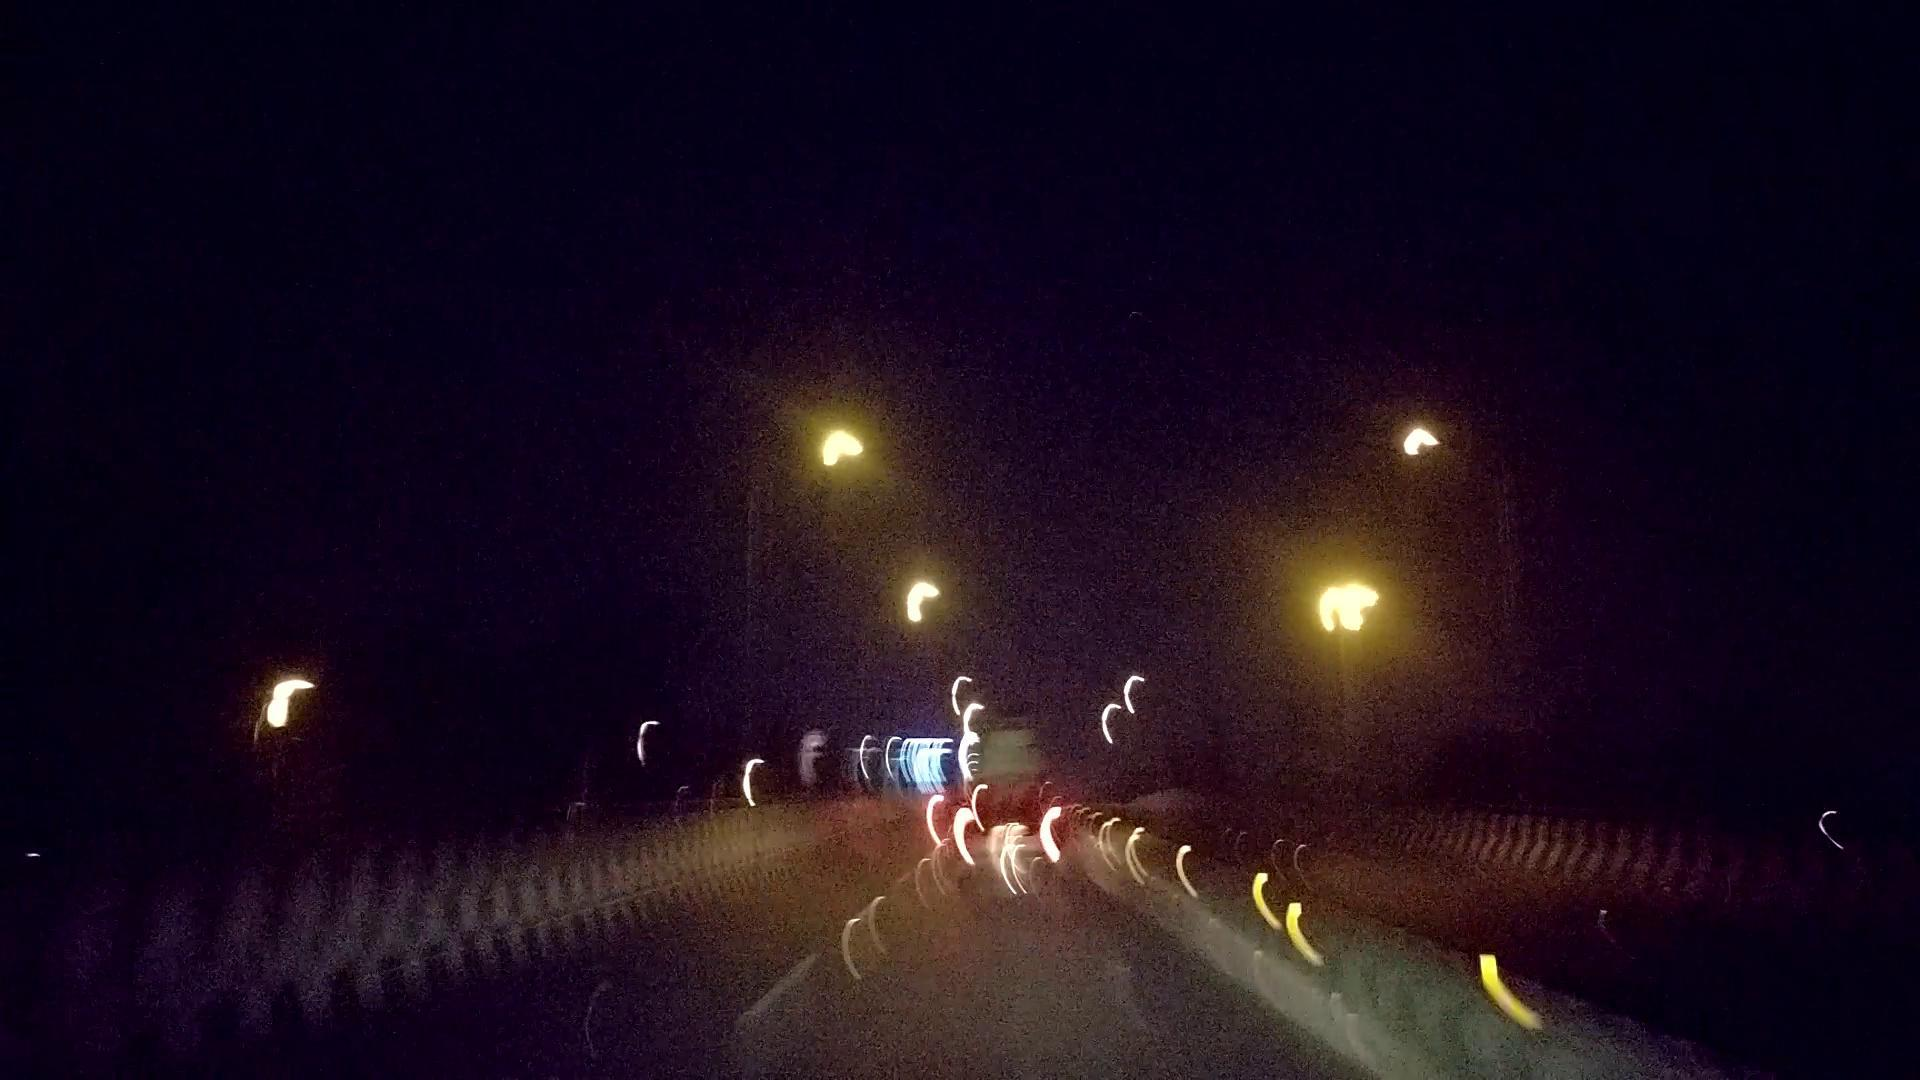on: (1200, 302, 1695, 787), (611, 291, 1063, 644)
